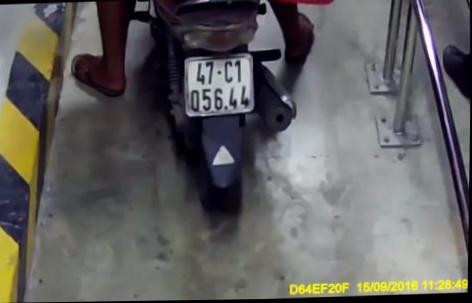LP: (181, 51, 259, 118)
